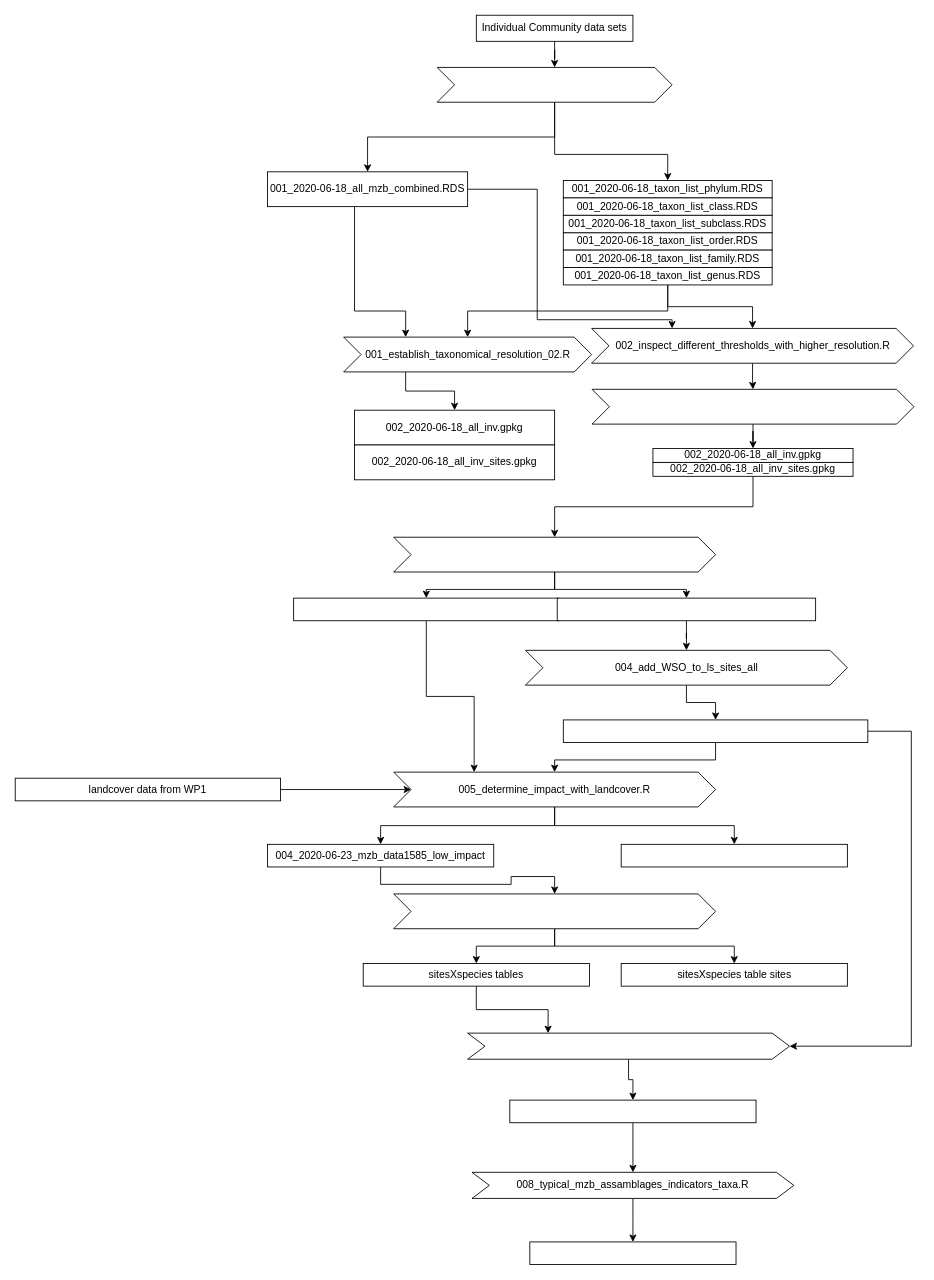
The diagram is 934 pixels wide and 1280 high, and some of its shapes have lost their labels. Each missing label, with the centre of its shape:
"001_establish_taxonomical_resolution.R" goes at [554,84].
"002_Create data set with final taxon.R" goes at [752,406].
"003_2020-06-23_mzb_data1585_close_to_ls.RDS" goes at [426,609].
"003_2020-06-23_mzb_sites1585_close_to_ls.RDS" goes at [686,609].
"003_subset_to_sites_close_to_ls20_all.R" goes at [554,554].
"003b_2020-06-23_mzb_sites1585_close_to_ls_withWSO.RDS" goes at [715,731].
"004_2020-06-23_mzb_sites1585_low_impact" goes at [733,855].
"005_2020-06-23obs_low_impact_w_LS20.RDS" goes at [632,1111].
"006_2020-06-24 _indicator_taxa_50.RDS" goes at [632,1253].
"006_create_sitesXspecies_mzb.R" goes at [554,911].
"007_add_stream_cluster_id_to_all_mzb_ls_all.R" goes at [628,1045].
